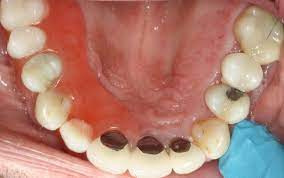LL1BC_decay: (207, 84, 248, 122)
LL1M_healthy: (240, 10, 281, 57)
LL2BC_healthy: (221, 57, 263, 88)
LLCI_decay: (131, 135, 171, 176)
LLC_decay: (195, 119, 229, 159)
LLLI_decay: (168, 135, 206, 173)
LR1BC_decay: (21, 54, 60, 90)
LR1M_healthy: (1, 2, 46, 26)
LR2BC_healthy: (11, 30, 46, 50)
LRCI_decay: (93, 129, 128, 169)
LRC_healthy: (37, 92, 70, 124)
LRLI_healthy: (65, 118, 93, 153)
